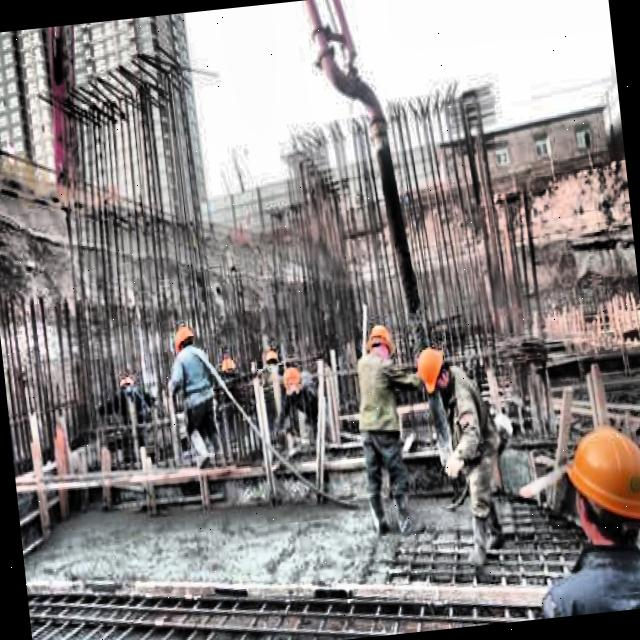helmet: (550, 410, 640, 555), (410, 344, 449, 398), (364, 316, 394, 359), (172, 323, 202, 360), (278, 366, 306, 396)
